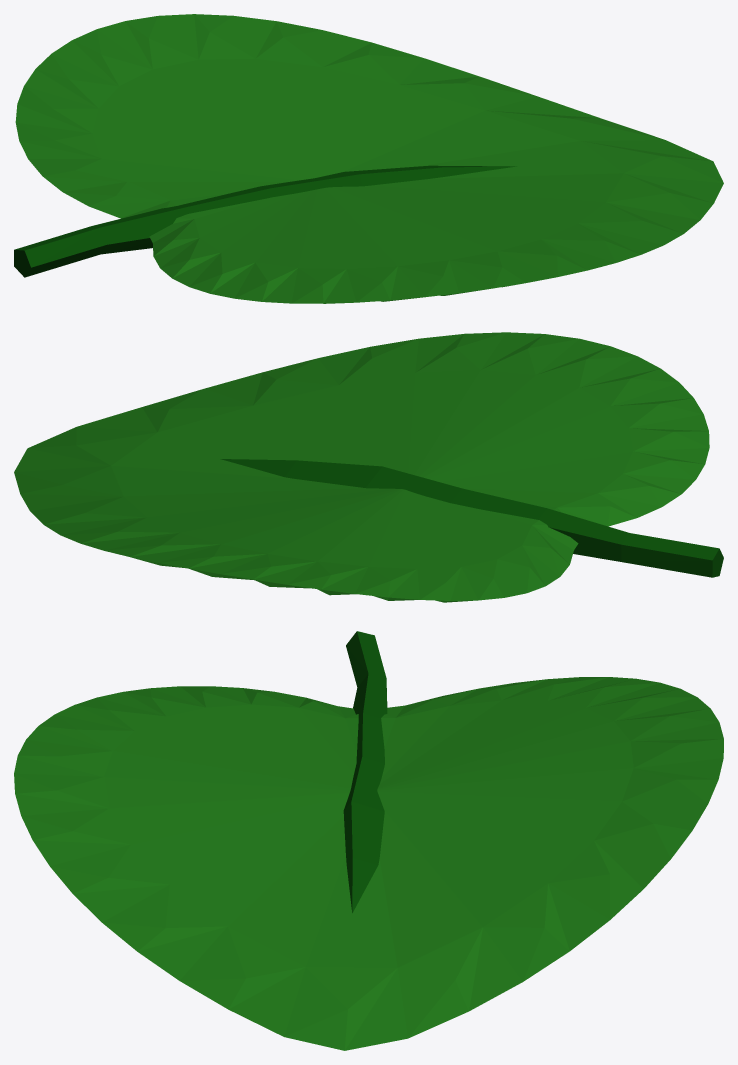
Rendered from Leaf_01.fbx.
The picture shows the model from 3 angles, top to bottom: view 1: azimuth 30°, elevation 25°; view 2: azimuth 150°, elevation 25°; view 3: azimuth 270°, elevation 25°; orthographic projection. The views are drawn at different scales.
Parts seen in each view (by area): view 1: Leaf; view 2: Leaf; view 3: Leaf.
Part boxes in pixels (x1,y1,x2,y2): Leaf: (14, 14, 723, 303); Leaf: (14, 332, 723, 602); Leaf: (14, 631, 723, 1050).
Bounding box in the file's own units: 1.36 × 0.2037 × 1.18.
